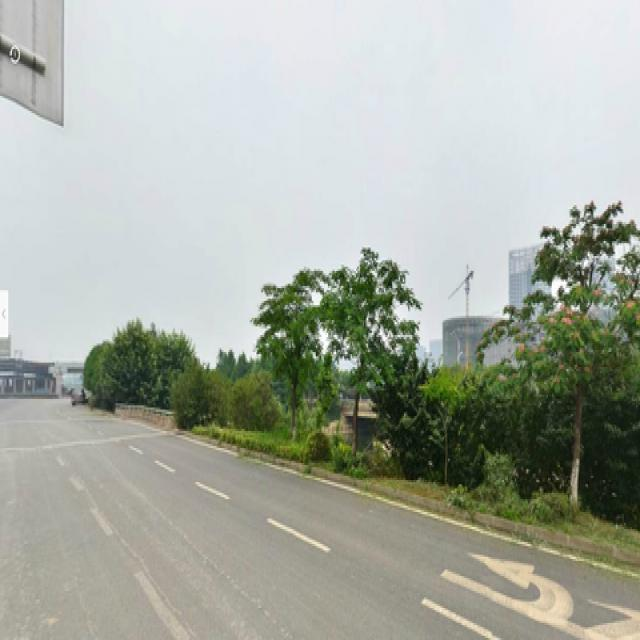albi: (505, 202, 639, 508)
